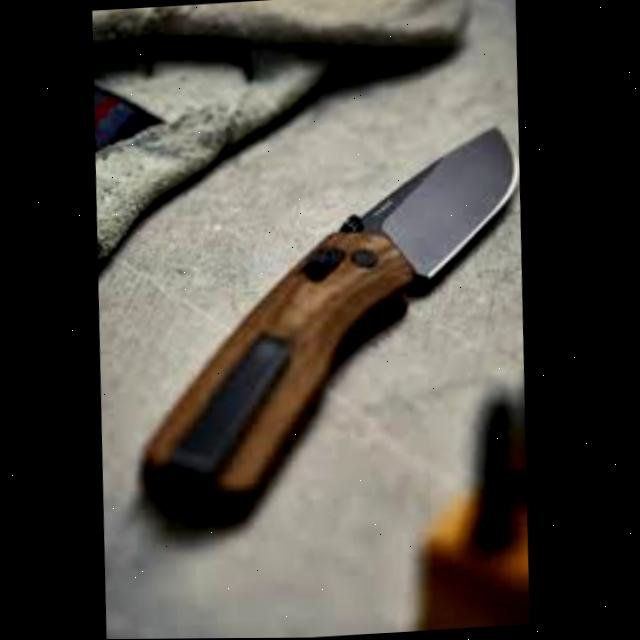knife: (123, 121, 539, 527)
